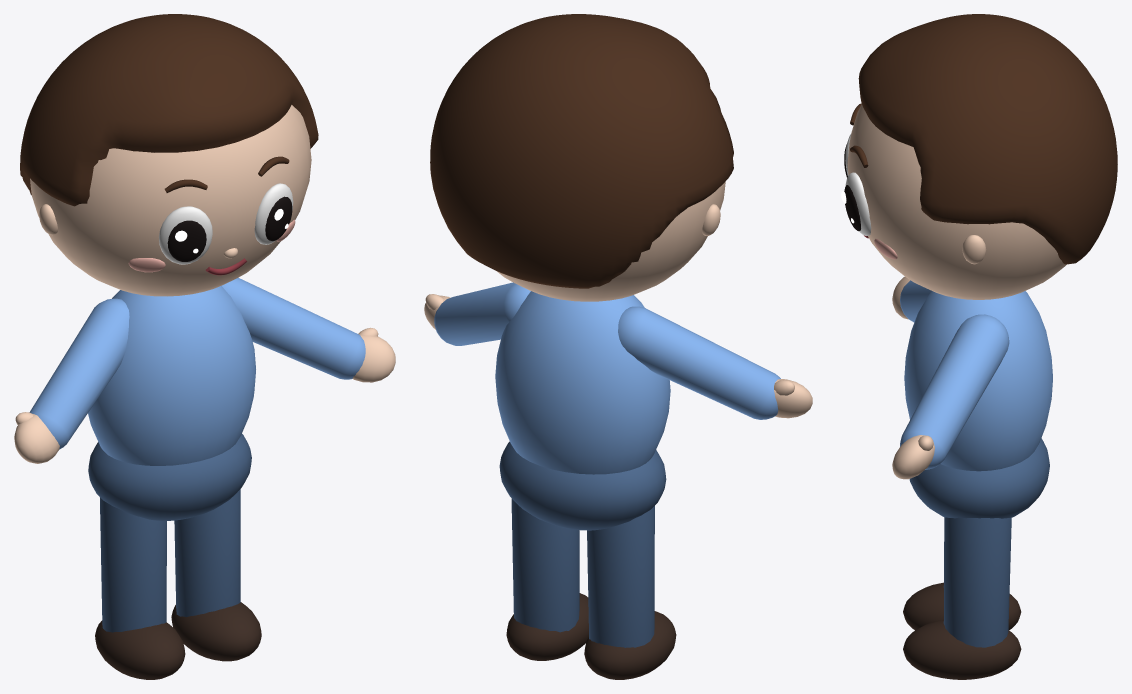
The model's file is father.glb.
3 renders of one model, left to right at view 1: azimuth 30°, elevation 25°; view 2: azimuth 150°, elevation 25°; view 3: azimuth 270°, elevation 25°, orthographic. The views are drawn at different scales.
Visible parts, largest first — view 1: father; view 2: father; view 3: father.
Boxes of the visible parts, x1,y1,x2,y2 form: father: (14, 14, 395, 679); father: (424, 14, 812, 679); father: (841, 14, 1117, 679).
Size of the model in its own units: 1.01 by 1.6 by 0.6435.
